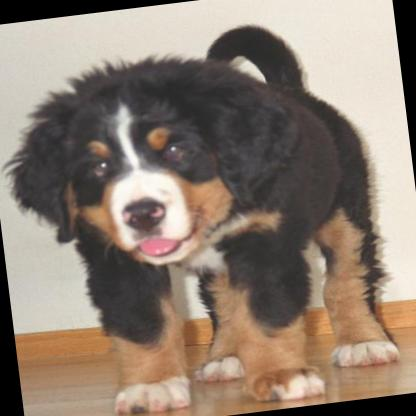Bernese_mountain_dog: (0, 13, 403, 416)
